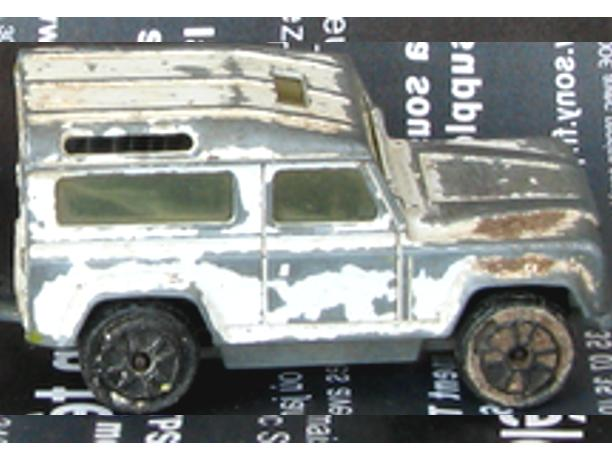toy-car: (0, 42, 612, 415)
